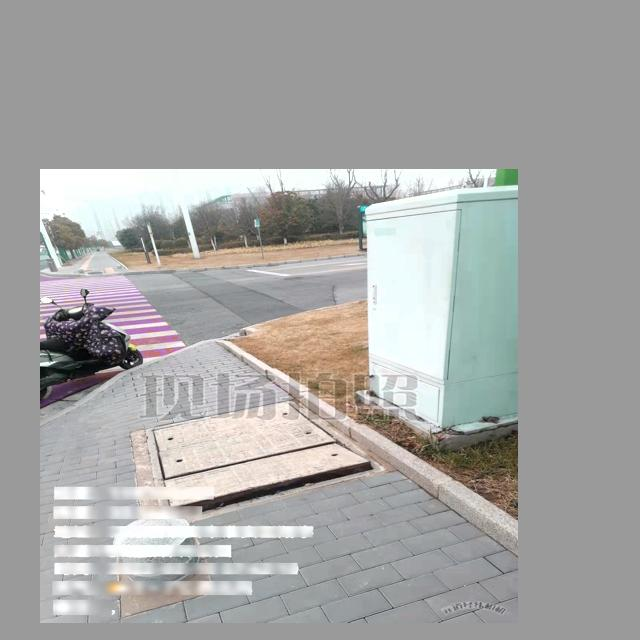uncovered: (145, 402, 378, 514)
